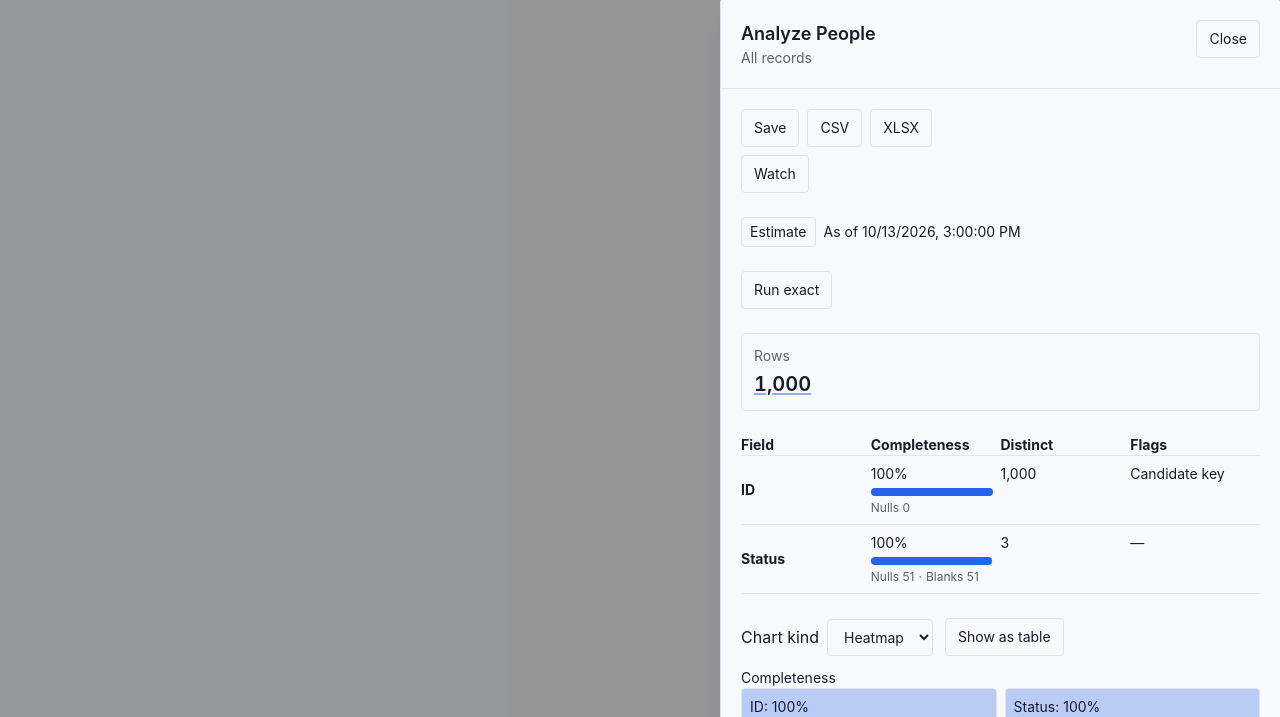
Test case: offers an exact table run only while displaying an estimate
The image size is (1280, 717).
What coordinates should you click on to do the following:
click the button "Run exact"
I would click on:
 (787, 290)
Its box is [741,271,832,309].
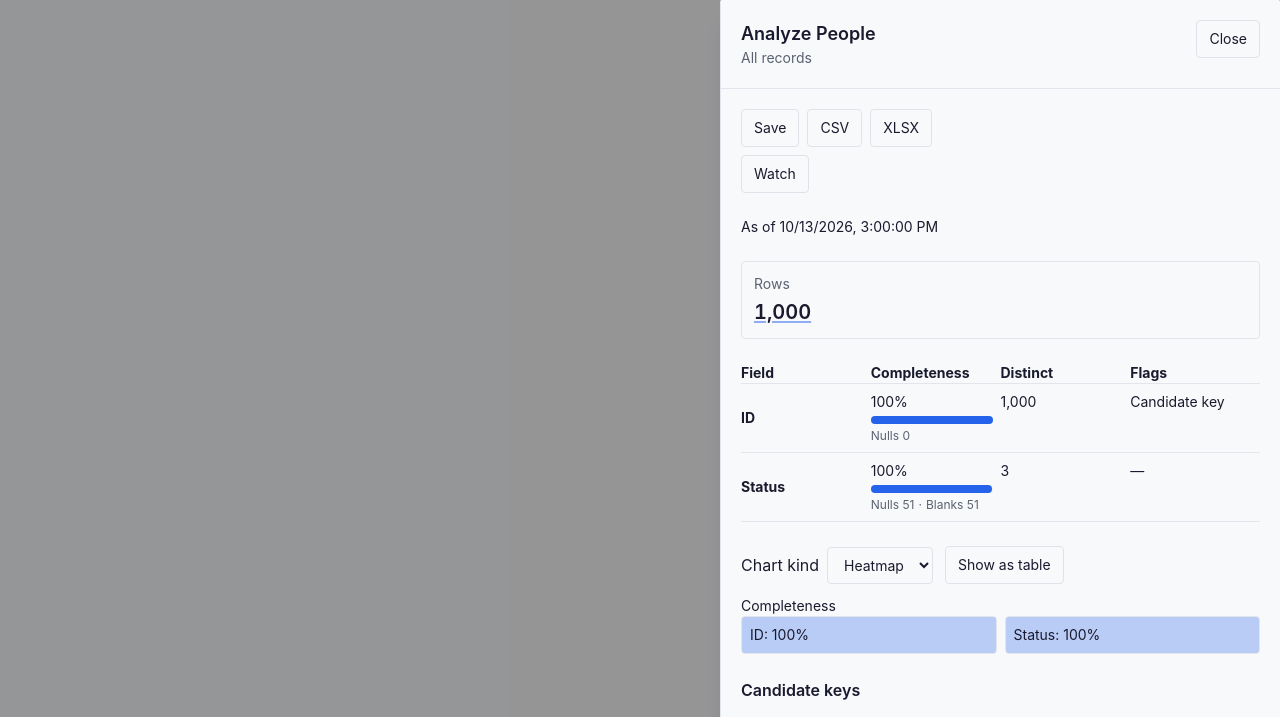
Expected: the text "As of 10/13/2026, 3:00:00 PM" is shown, [741,217,938,237]
Result: the button "Run exact" is gone
